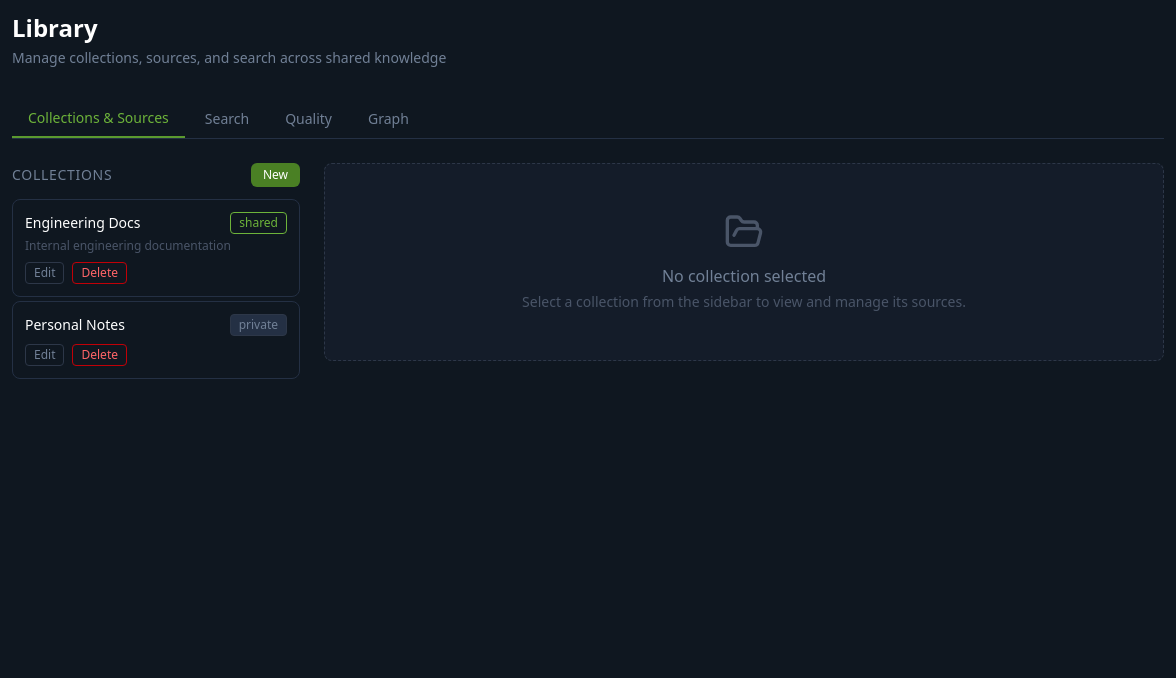
Test: SharedKnowledgeClient › shows URL field when web_page type selected
Click the text "Engineering Docs" at (83, 223), box [25,213,140,233]
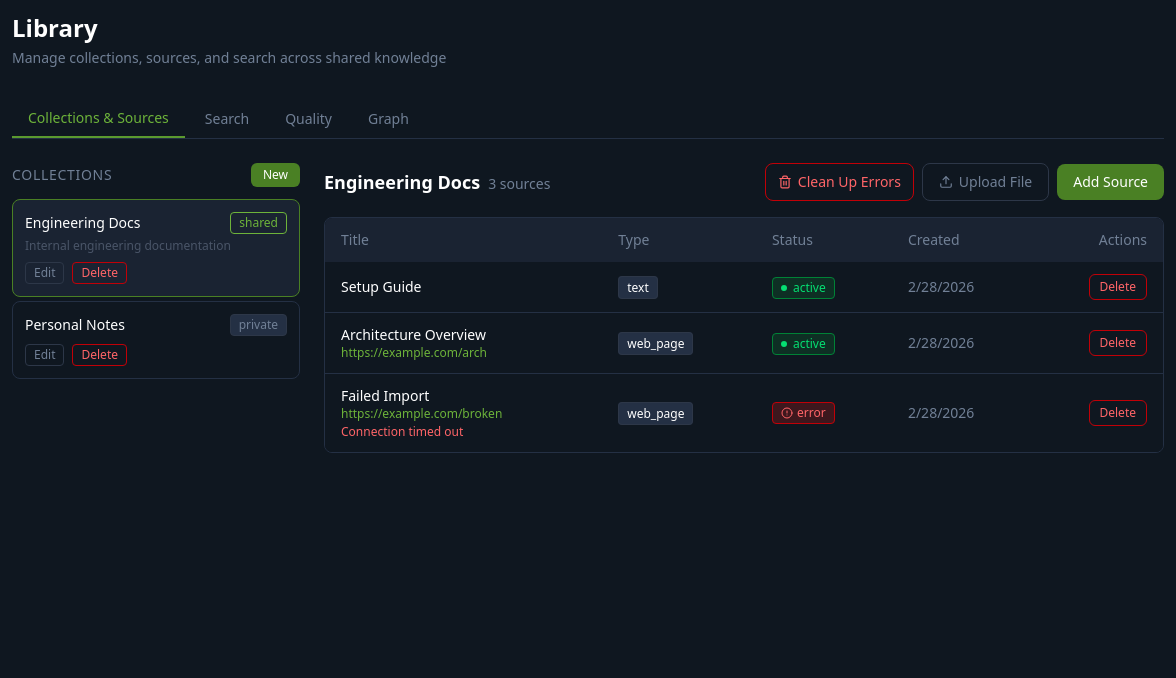
Expected: the button "Add Source" is shown
Click the button "Add Source" at (1111, 182), box [1057,164,1164,200]
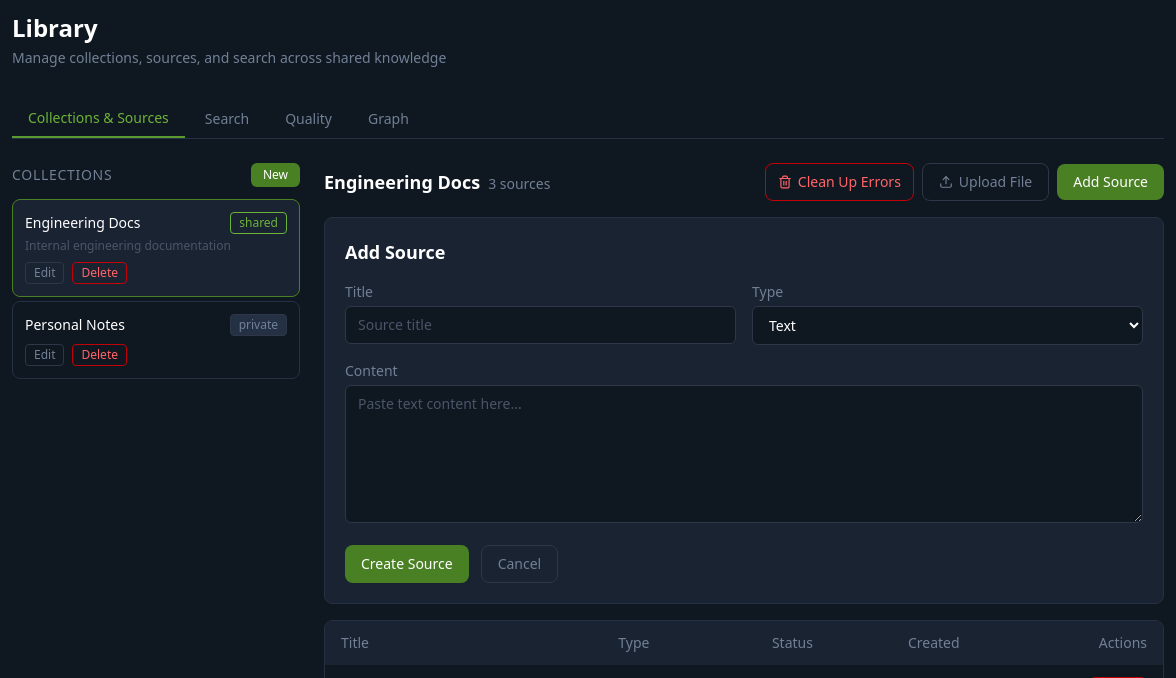
Select "Web Page" in the dropdown at (948, 326), box [752,306,1143,345]
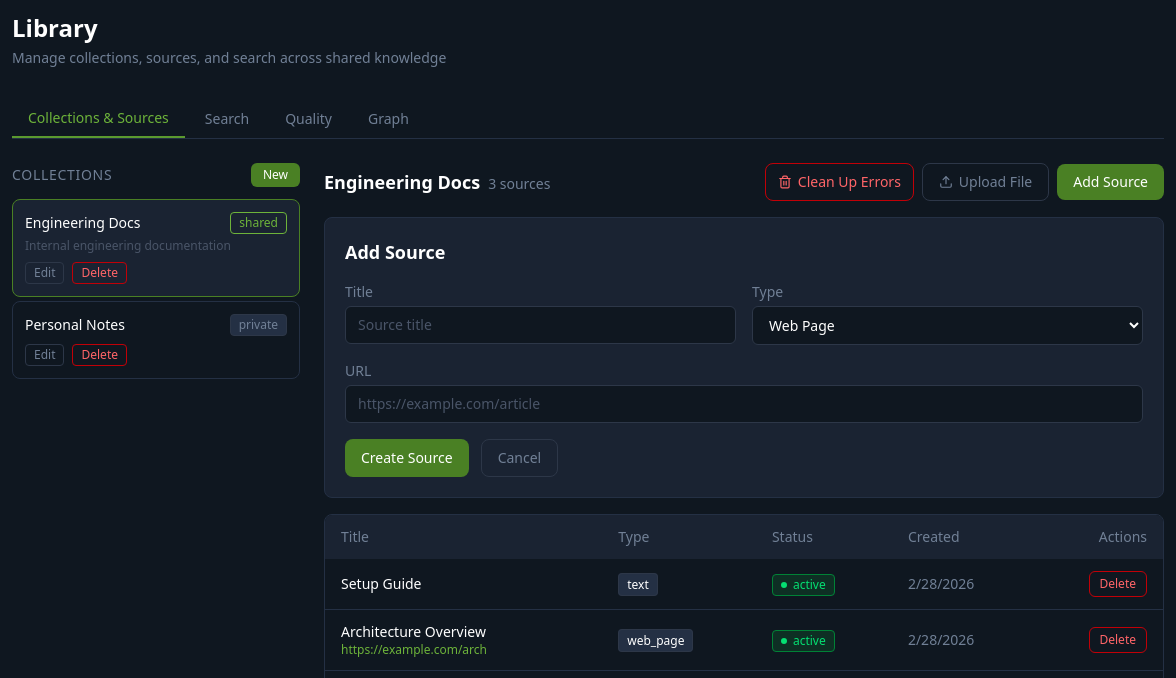
Expected: the field with placeholder "https://example.com/article" is shown, [345,385,1143,423]
